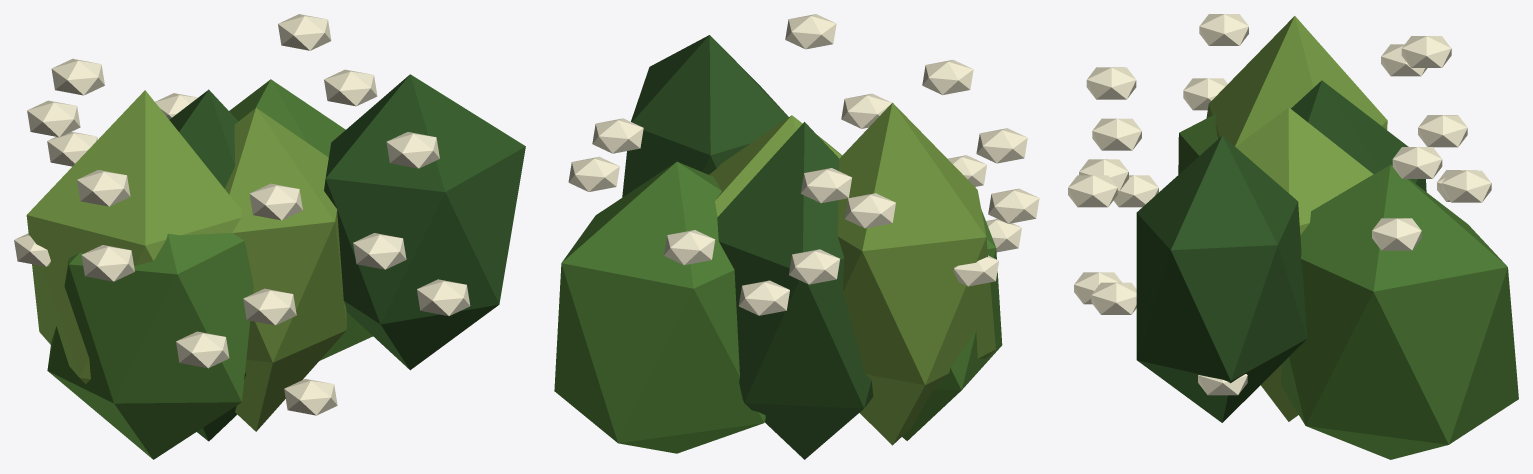
Rendered from UM_Holunder.fbx.
The picture shows the model from 3 angles, left to right: view 1: azimuth 30°, elevation 25°; view 2: azimuth 150°, elevation 25°; view 3: azimuth 270°, elevation 25°; orthographic projection. The views are drawn at different scales.
Parts seen in each view (by area): view 1: UM_Holunder; view 2: UM_Holunder; view 3: UM_Holunder.
Boxes of the visible parts, x1=… form: UM_Holunder: x1=14, y1=14, x2=525, y2=459; UM_Holunder: x1=554, y1=14, x2=1039, y2=459; UM_Holunder: x1=1068, y1=14, x2=1518, y2=459.
Bounding box in the file's own units: 2.67 × 2.23 × 2.47.
